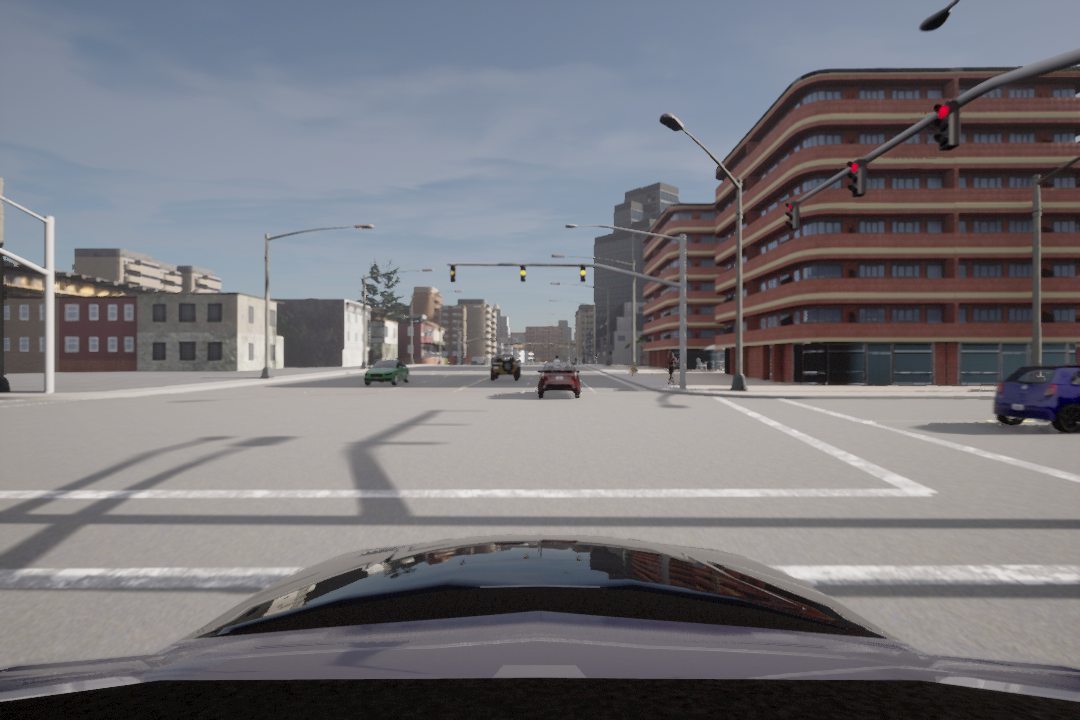TrafficLight: (933, 97, 962, 155), (847, 158, 864, 199), (782, 199, 798, 232), (518, 264, 530, 282), (580, 264, 587, 287), (450, 264, 458, 283)
